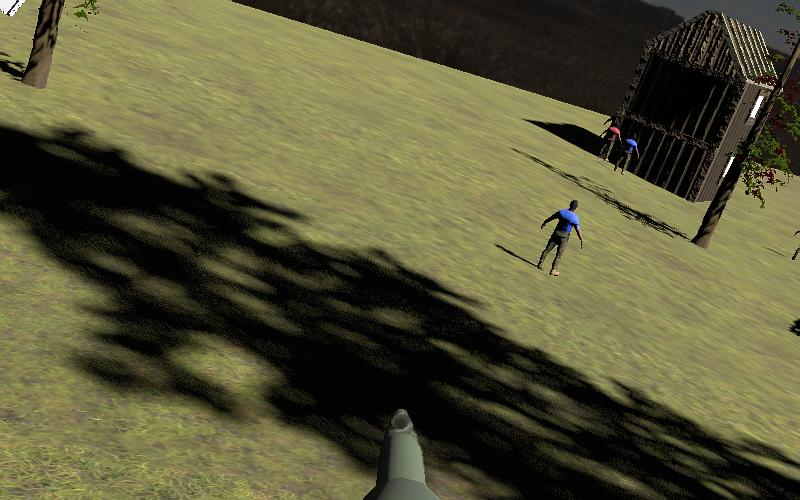Human: (531, 196, 586, 281), (611, 131, 642, 180), (597, 117, 624, 167), (789, 220, 800, 271)
